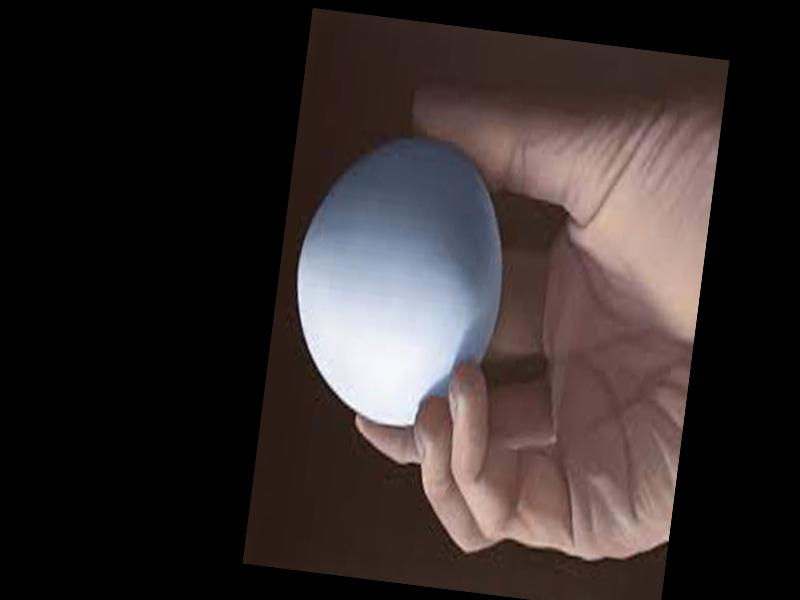Eggs: (278, 127, 516, 439)
